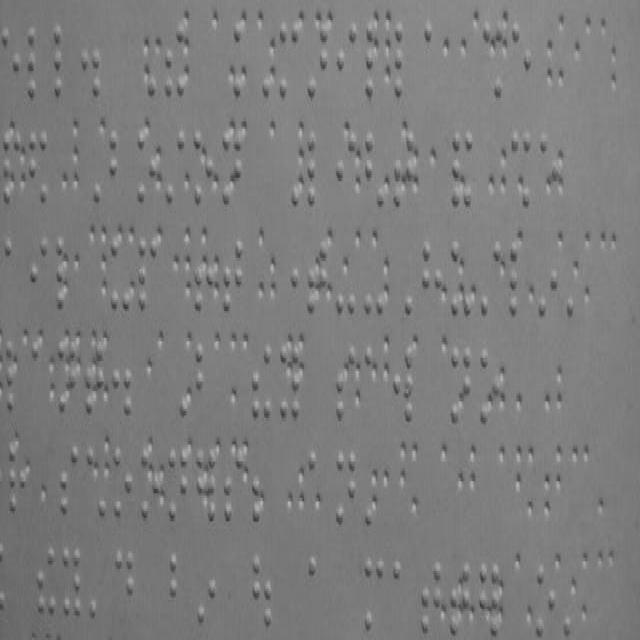braiile: (50, 21, 78, 103), (394, 21, 420, 103), (306, 131, 334, 207), (12, 26, 38, 104), (306, 553, 332, 629), (362, 556, 386, 636), (392, 346, 416, 424), (2, 235, 26, 312), (422, 20, 444, 100), (510, 20, 532, 100), (421, 240, 443, 320), (336, 23, 358, 101), (134, 127, 156, 205), (508, 241, 530, 319), (334, 448, 356, 526), (60, 544, 82, 620), (392, 556, 414, 632), (28, 236, 50, 311), (222, 236, 244, 311), (421, 559, 442, 637), (167, 449, 190, 520), (534, 563, 556, 637), (137, 234, 157, 314), (194, 342, 216, 414), (110, 237, 130, 314), (336, 131, 356, 207), (112, 444, 132, 520), (168, 552, 190, 621), (223, 447, 243, 522), (114, 549, 134, 620), (8, 440, 26, 511), (60, 446, 78, 514)
